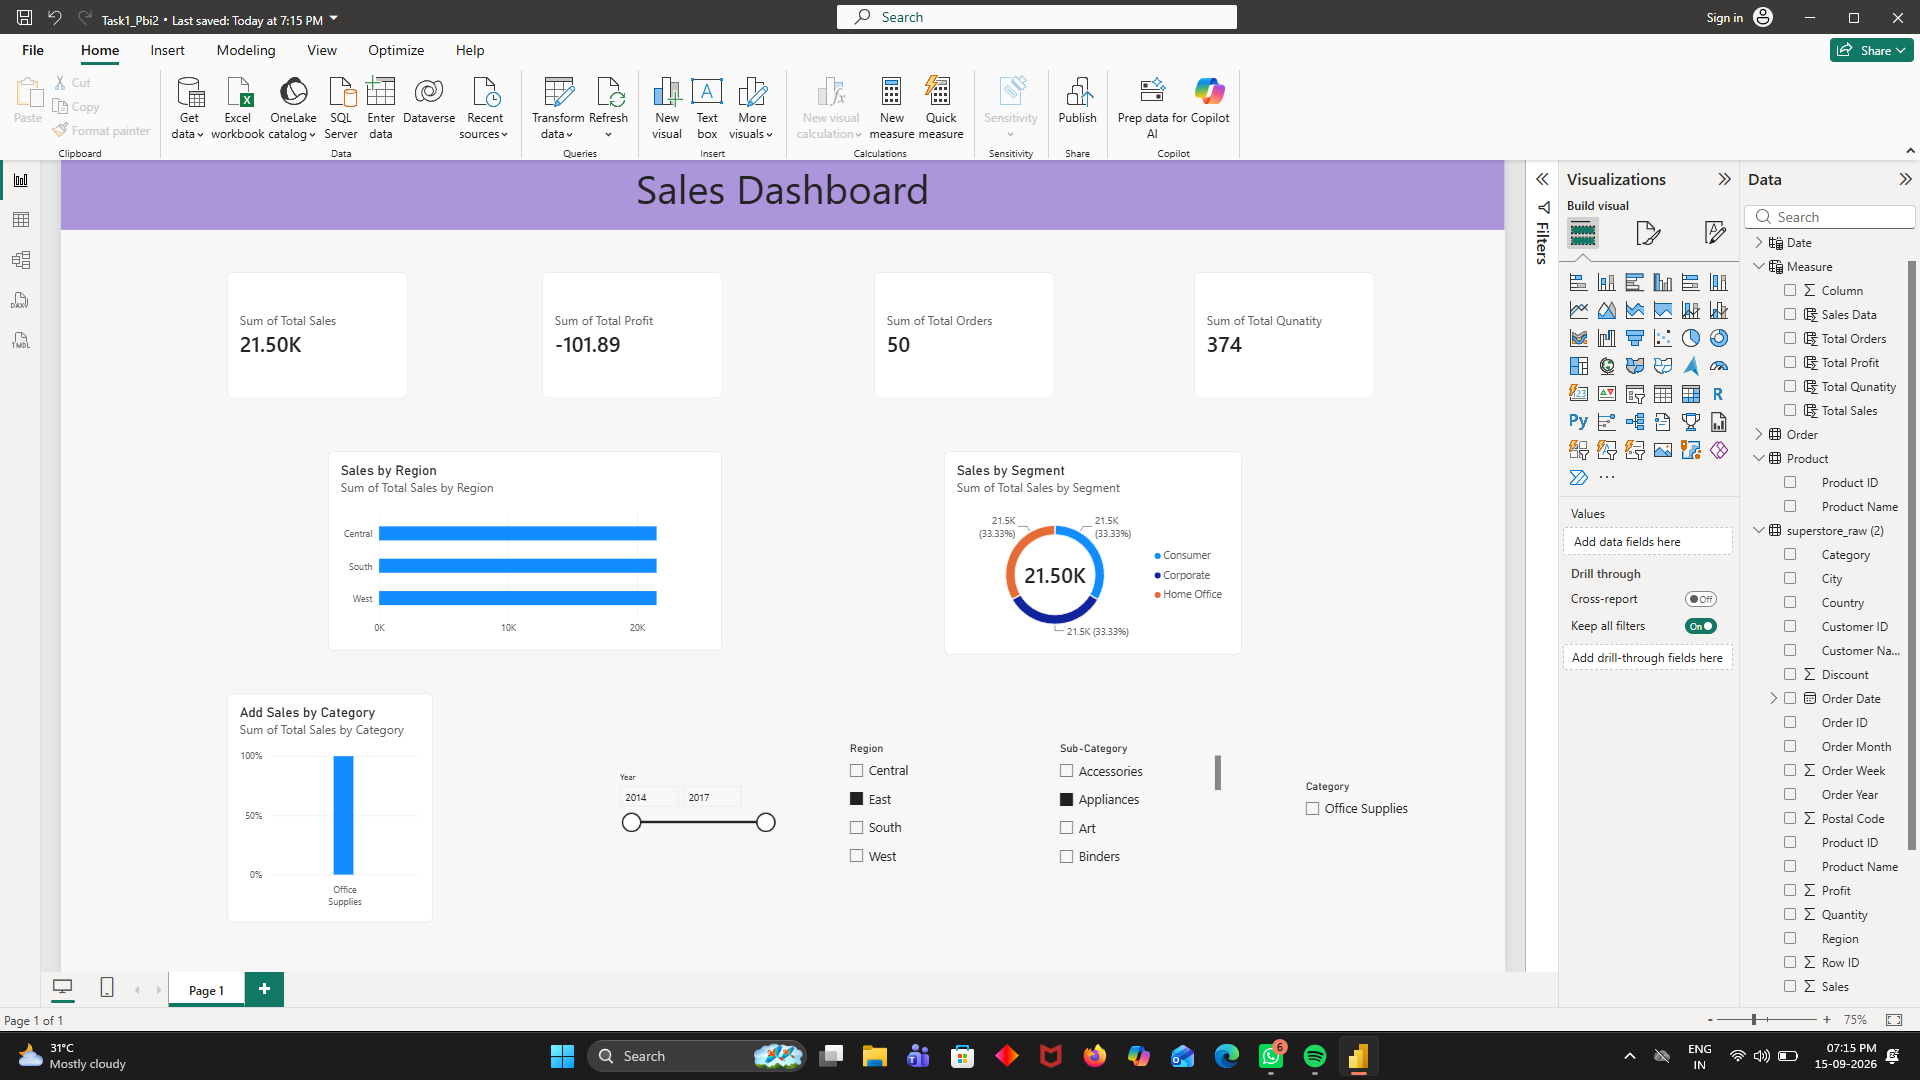

What the dashboard file says about the page in this screenshot:
{"tool":"powerbi","page":{"name":"Page 1","canvas":[1920,1080],"ordinal":0},"visuals":[{"type":"cardVisual","fields":{"Data":["Sum(Measure.Total Sales)"]},"box":[220.8,149,240,168],"z":0},{"type":"textbox","box":[0,0,1920,93.4],"z":1000},{"type":"cardVisual","fields":{"Data":["Sum(Measure.Total Profit)"]},"box":[639.1,149.1,240,168],"z":2000},{"type":"cardVisual","fields":{"Data":["Sum(Measure.Total Qunatity)"]},"box":[1506.9,149,240,168],"z":3000},{"type":"cardVisual","fields":{"Data":["Sum(Measure.Total Orders)"]},"box":[1081.3,149,240,168],"z":4000},{"type":"slicer","fields":{"Values":["Date.Year"]},"box":[735.5,814,218.1,85.1],"z":5000},{"type":"slicer","fields":{"Values":["Order.Region"]},"box":[1041.4,774.1,222.4,175.8],"z":6000},{"type":"slicer","fields":{"Values":["superstore_raw (2).Sub-Category"]},"box":[1320.7,774.1,222.4,175.8],"z":7000},{"type":"slicer","fields":{"Values":["superstore_raw (2).Category"]},"box":[1647.9,824.6,222.1,74.5],"z":8000},{"type":"clusteredBarChart","title":"Sales by Region","fields":{"Category":["superstore_raw (2).Region"],"Y":["Sum(Measure.Total Sales)"]},"box":[355.1,387,524,266],"z":9001},{"type":"donutChart","title":"Sales by Segment","fields":{"Category":["superstore_raw (2).Segment"],"Y":["Sum(Measure.Total Sales)"]},"box":[1174.4,387,396.4,271.3],"z":9002},{"type":"hundredPercentStackedColumnChart","title":"Add Sales by Category","fields":{"Category":["superstore_raw (2).Category"],"Y":["Sum(Measure.Total Sales)"]},"box":[220.8,708.9,274,304.6],"z":9003}]}

Visuals, with their boxes on the page's 1920x1080 design canvas (x1, y1, x2, y2). These are canvas units, not pixel positions in the 1920x1080 screenshot, which may show the page scaled, cropped or inside an application window:
cardVisual - Sum(Measure.Total Sales): {"left": 221, "top": 149, "right": 461, "bottom": 317}
textbox: {"left": 0, "top": 0, "right": 1920, "bottom": 93}
cardVisual - Sum(Measure.Total Profit): {"left": 639, "top": 149, "right": 879, "bottom": 317}
cardVisual - Sum(Measure.Total Qunatity): {"left": 1507, "top": 149, "right": 1747, "bottom": 317}
cardVisual - Sum(Measure.Total Orders): {"left": 1081, "top": 149, "right": 1321, "bottom": 317}
slicer - Date.Year: {"left": 736, "top": 814, "right": 954, "bottom": 899}
slicer - Order.Region: {"left": 1041, "top": 774, "right": 1264, "bottom": 950}
slicer - superstore_raw (2).Sub-Category: {"left": 1321, "top": 774, "right": 1543, "bottom": 950}
slicer - superstore_raw (2).Category: {"left": 1648, "top": 825, "right": 1870, "bottom": 899}
"Sales by Region" clusteredBarChart: {"left": 355, "top": 387, "right": 879, "bottom": 653}
"Sales by Segment" donutChart: {"left": 1174, "top": 387, "right": 1571, "bottom": 658}
"Add Sales by Category" hundredPercentStackedColumnChart: {"left": 221, "top": 709, "right": 495, "bottom": 1014}
